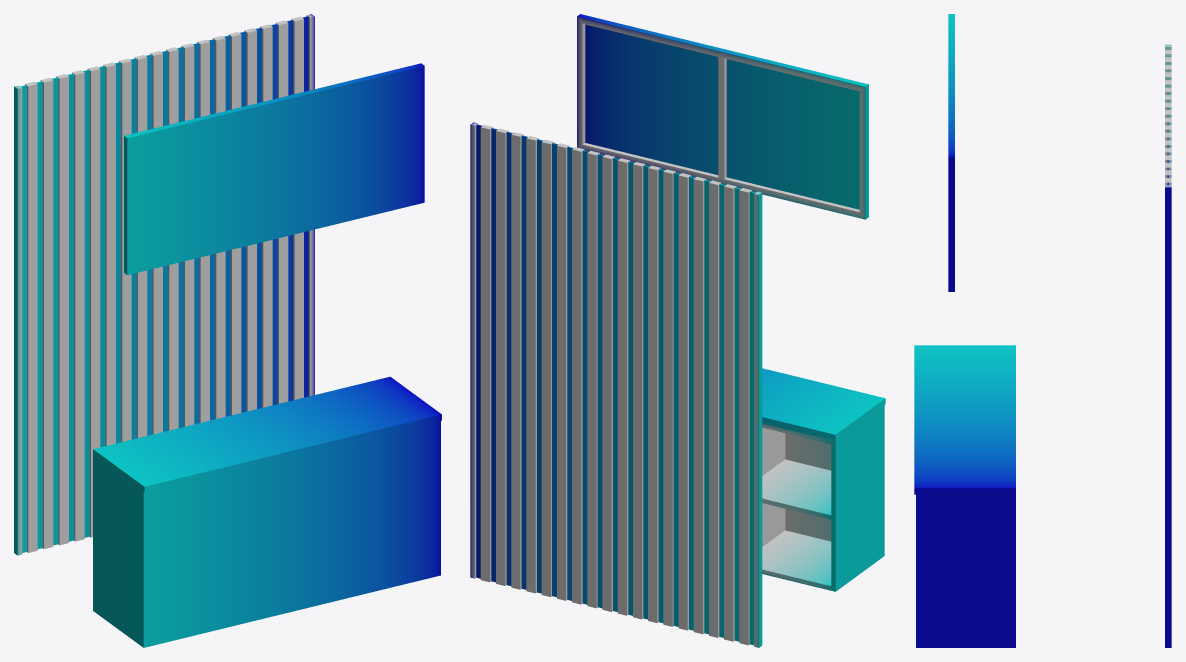
Rendered from MBSCoffeeShop_Workspace.fbx.
3 views of the same model, side by side, from view 1: azimuth 30°, elevation 25°; view 2: azimuth 150°, elevation 25°; view 3: azimuth 270°, elevation 25° (orthographic). The views are drawn at different scales.
Parts seen in each view (by area): view 1: Decoration Wall.001, table.001, billboard.001; view 2: Decoration Wall.001, billboard.001, table.001; view 3: table.001, Decoration Wall.001, billboard.001.
Boxes of the visible parts, x1,y1,x2,y2 form: Decoration Wall.001: [14, 14, 314, 555]; table.001: [93, 376, 441, 647]; billboard.001: [124, 63, 424, 274]; Decoration Wall.001: [470, 122, 762, 647]; billboard.001: [577, 14, 868, 219]; table.001: [762, 368, 885, 591]; table.001: [914, 345, 1015, 647]; Decoration Wall.001: [1165, 44, 1171, 647]; billboard.001: [948, 14, 954, 291].
Bounding box in the file's own units: 200 × 320 × 152.
